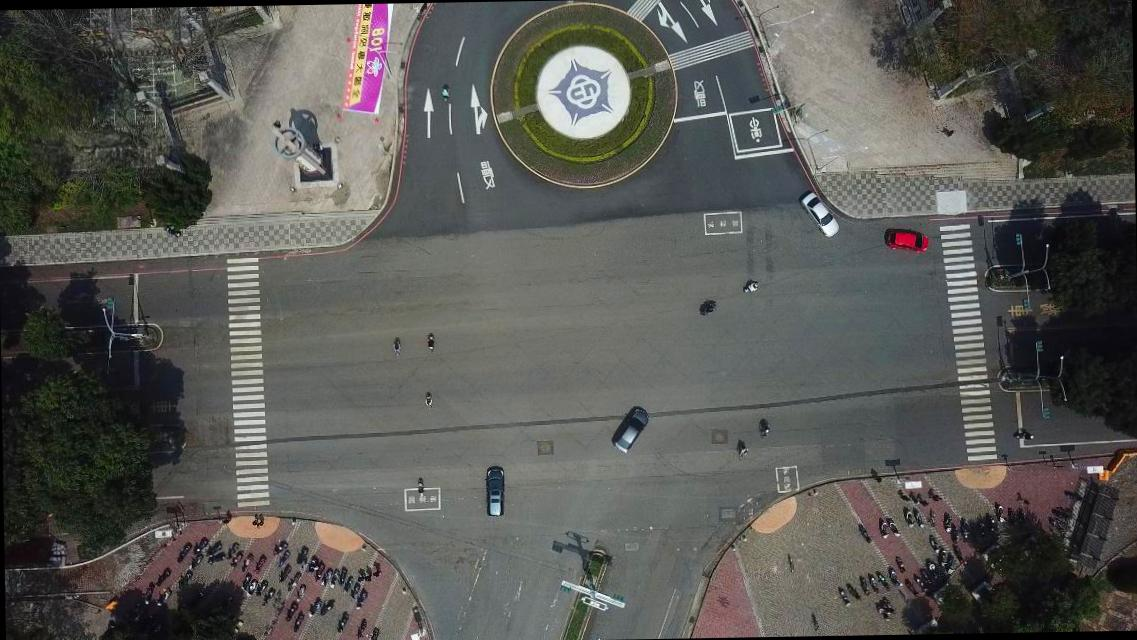vehicle: (800, 189, 840, 241), (610, 406, 650, 454), (884, 228, 932, 254), (484, 466, 506, 516)
